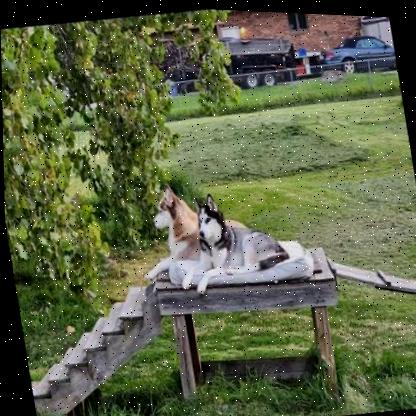dog: (165, 174, 304, 308), (126, 177, 208, 290)
